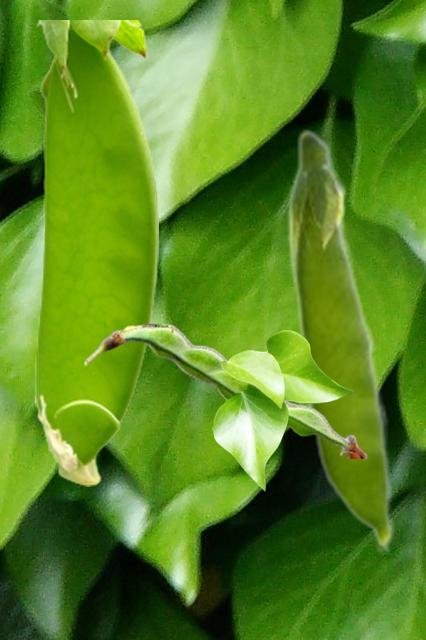pea: (35, 20, 157, 485), (286, 127, 395, 553), (84, 323, 367, 457)
